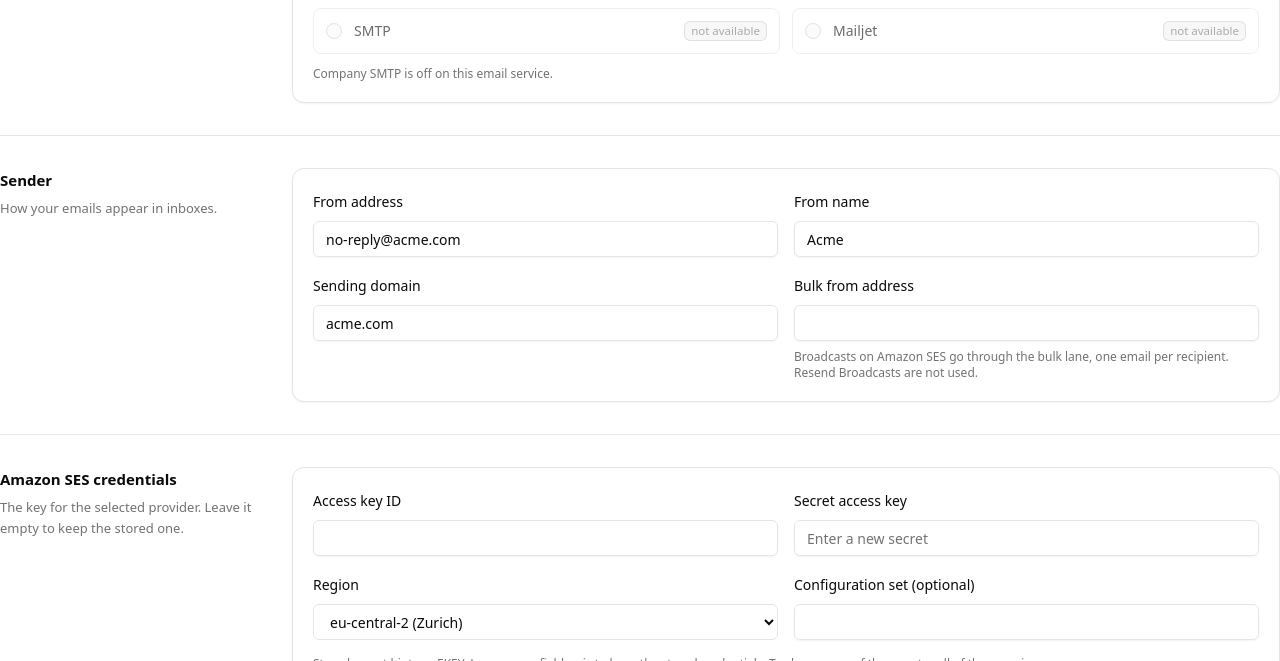
Test case: EmailProviderForm with Amazon SES › asks for the secret again when a stored SES field changes
The image size is (1280, 661).
Type "new-set" into the field labelled "Configuration set (optional)".
click(1026, 622); type("new-set")  # box top-left (794, 604), bottom-right (1259, 640)
(page scrolled)
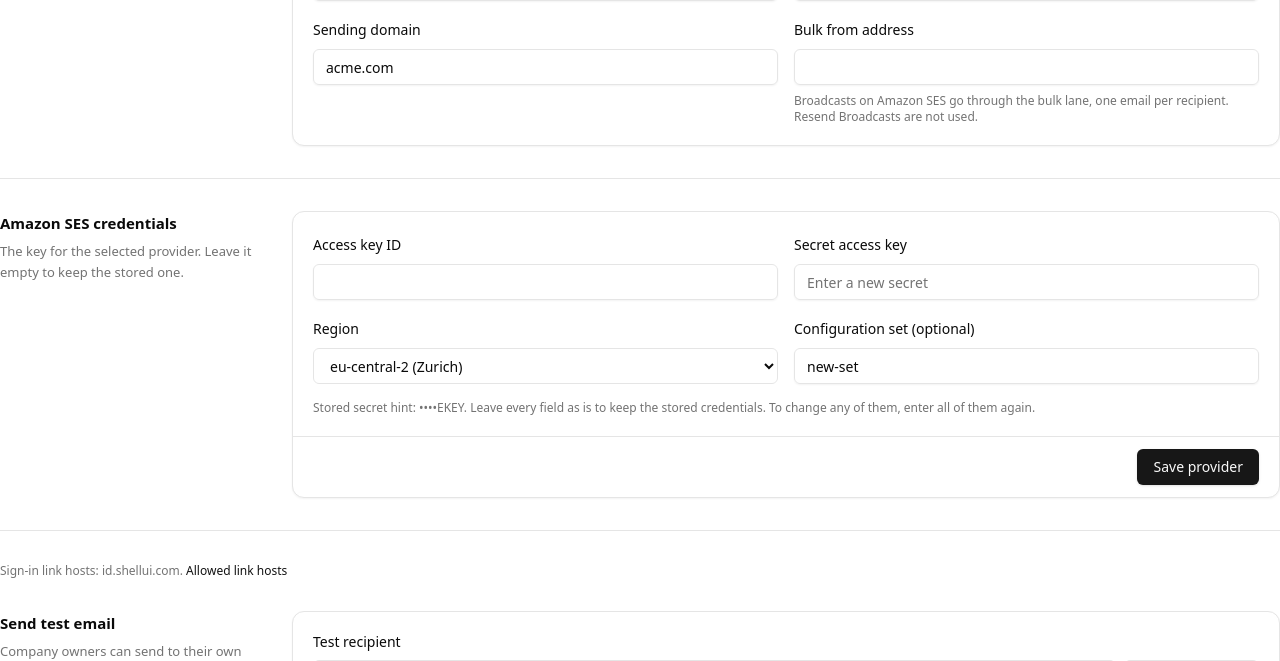
Click the button "Save provider".
click(1198, 467)  # box top-left (1138, 449), bottom-right (1259, 485)
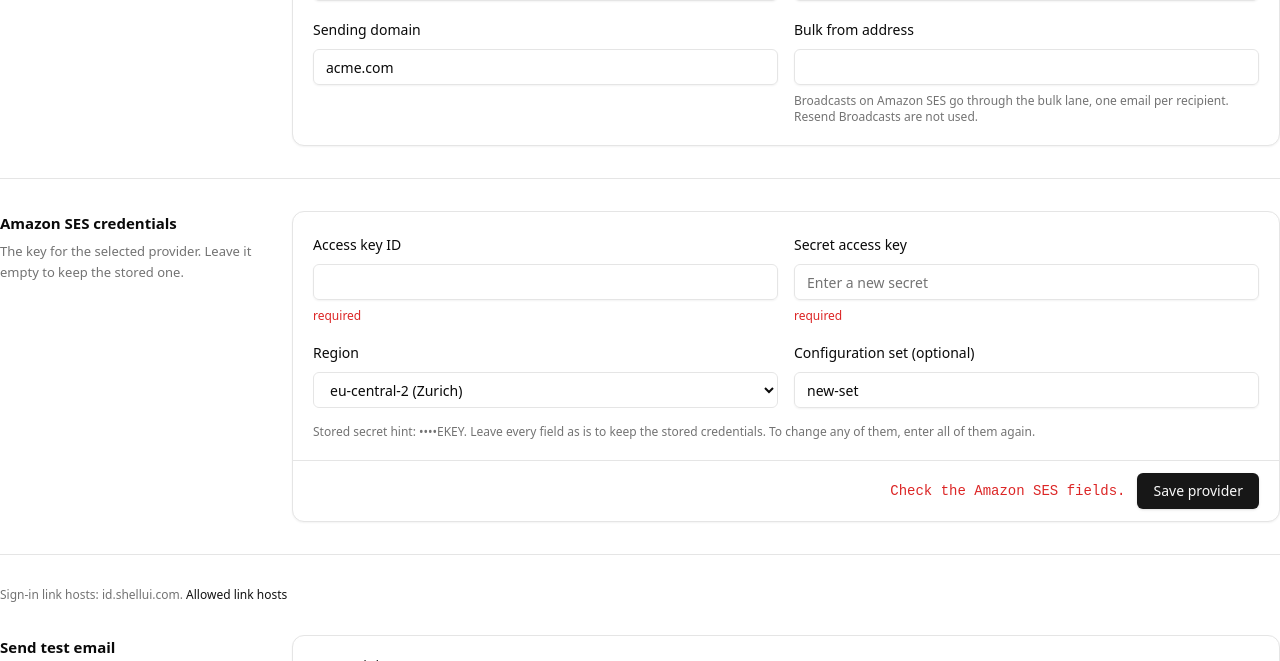
Result: the text "Check the Amazon SES fields." is shown at top-left (890, 481), bottom-right (1126, 501)
